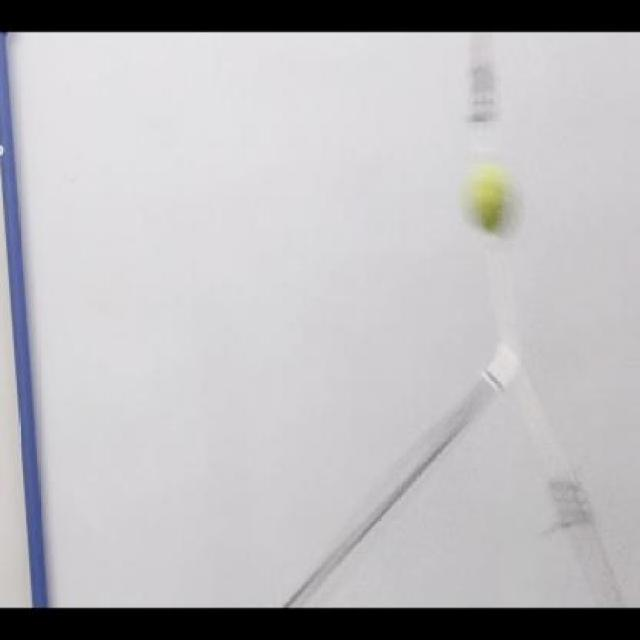baseball: (467, 160, 522, 234)
